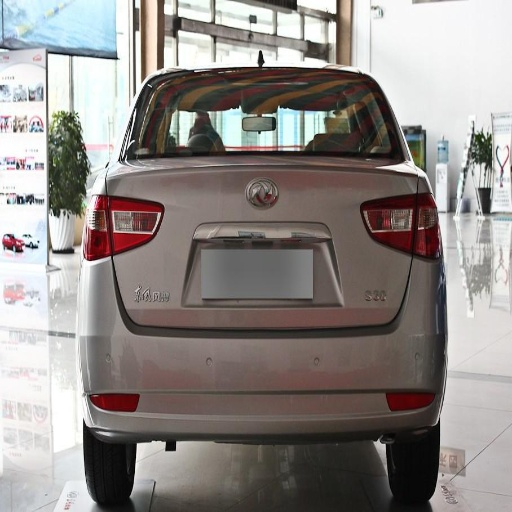back_bumper: (54, 257, 450, 441)
tailgate: (256, 158, 418, 327), (122, 290, 239, 331)
trunk: (102, 161, 397, 340)
